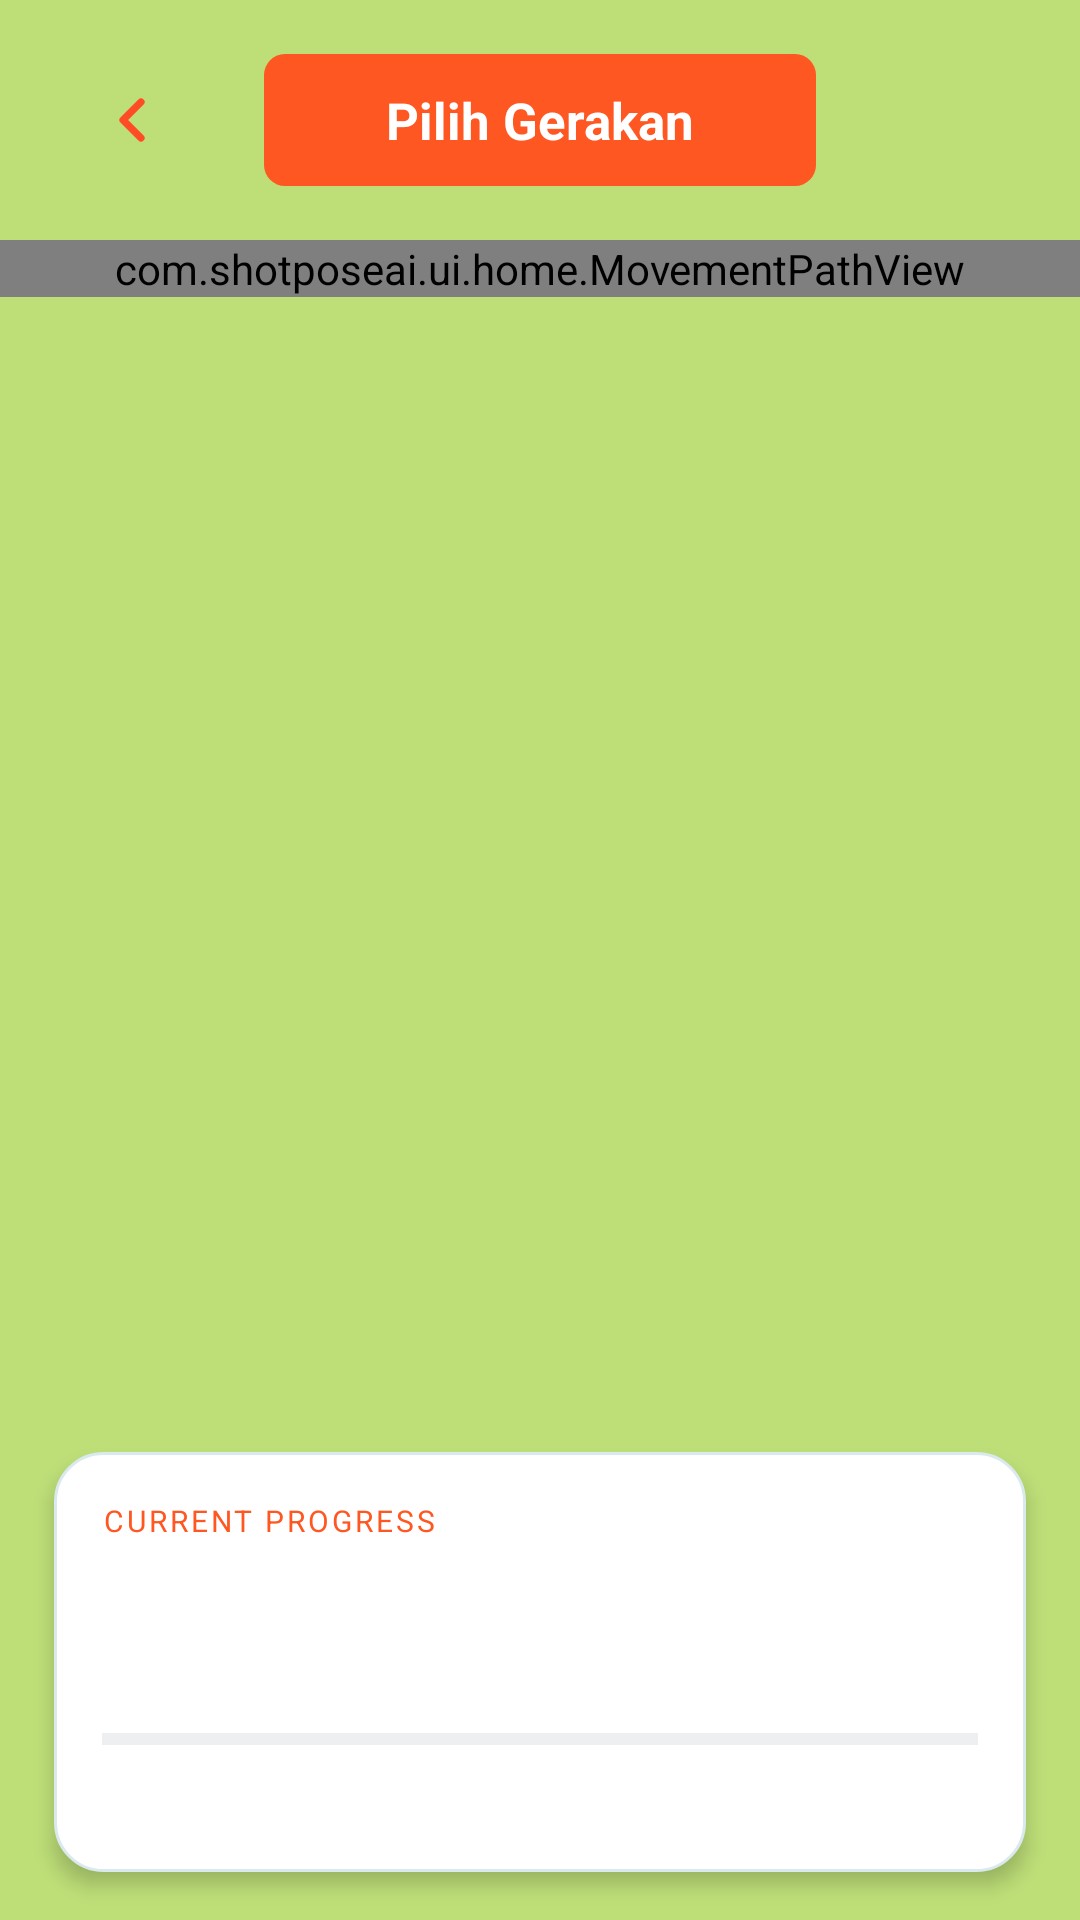

Point at icon controls on the screen. Image size 1080 × 1920, points as point (x, y).
Kembali: point (132, 120)
